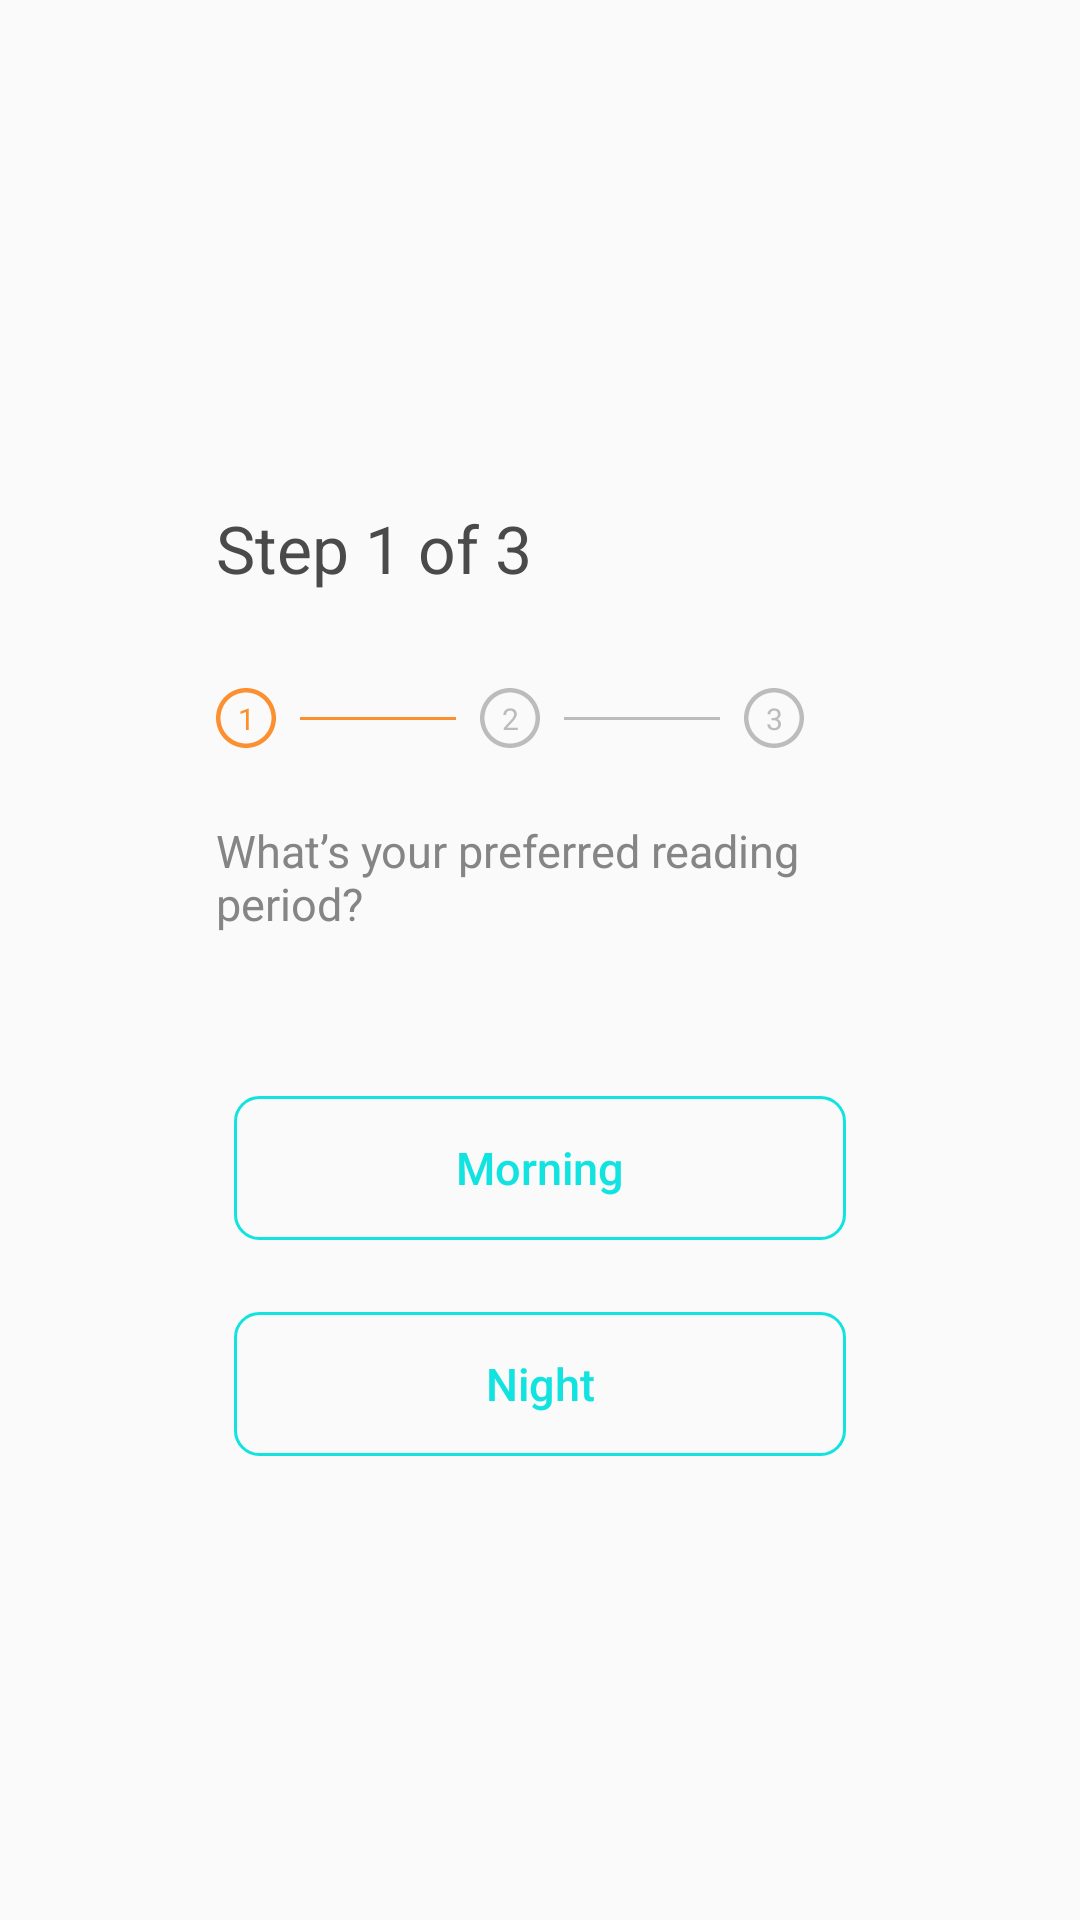

Icons on this 1080×1920 Android screen, each with its box as Rect(x1, y1, x2, y2):
circle: Rect(216, 688, 276, 748)
circle silver: Rect(480, 688, 540, 748), Rect(744, 688, 804, 748)
